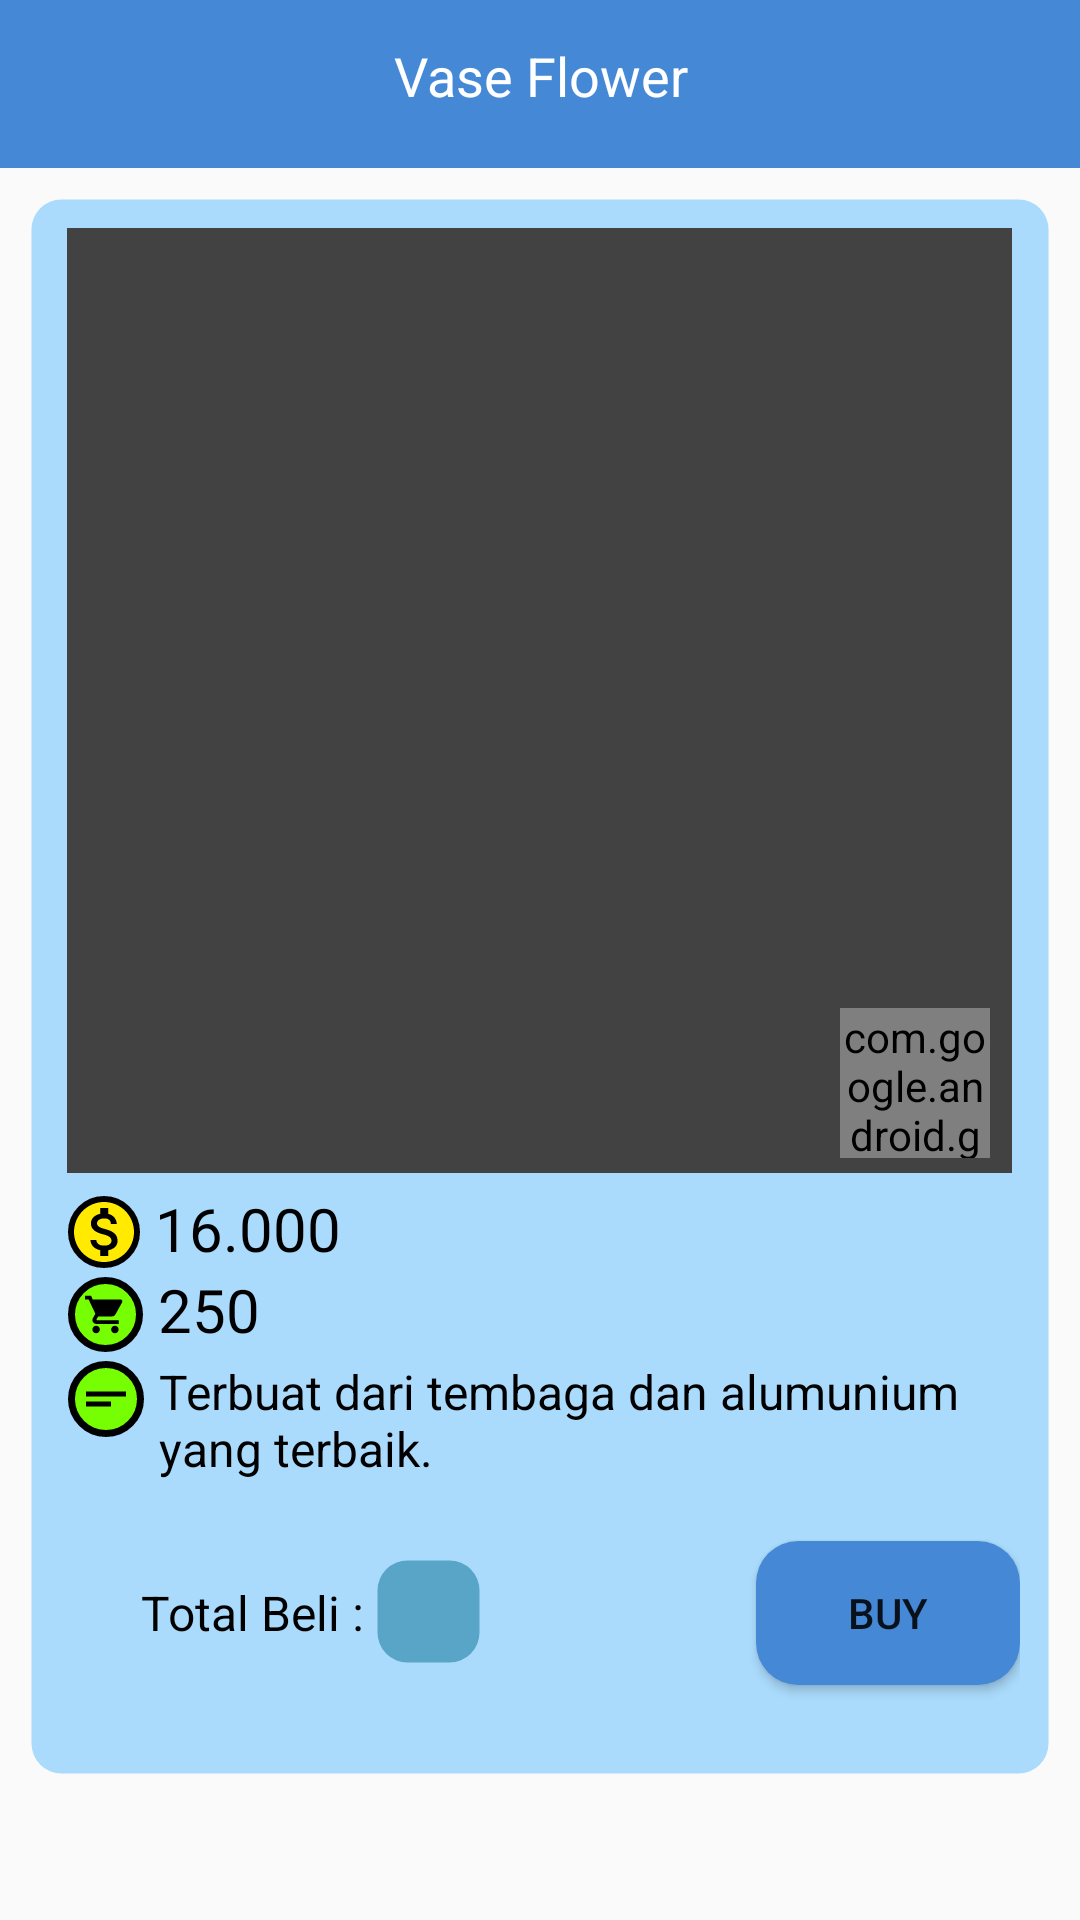

Icons on this 1080 × 1920 Android screen, each with its box as (x1, y1, x2, y2):
deskrips: (68, 1361, 144, 1437)
saldo: (68, 1196, 140, 1268)
stock: (68, 1277, 143, 1352)
